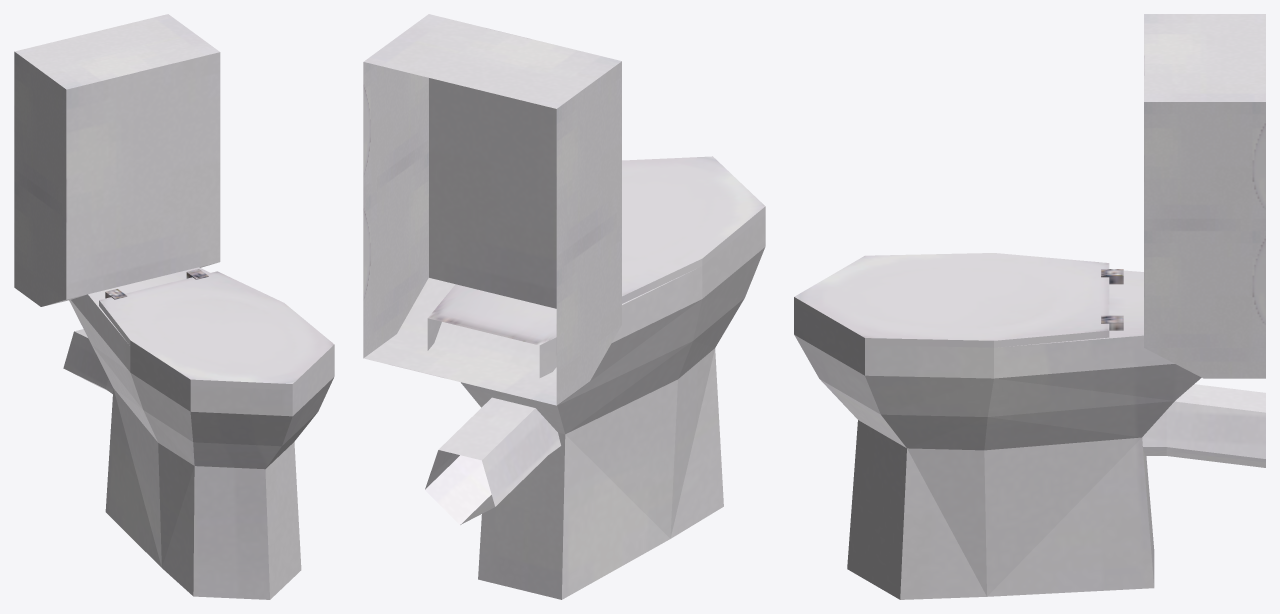
The model's file is Toilet01.obj.
3 views of the same model, side by side, from view 1: azimuth 30°, elevation 25°; view 2: azimuth 150°, elevation 25°; view 3: azimuth 270°, elevation 25° (orthographic). The views are drawn at different scales.
Parts seen in each view (by area): view 1: Toilet01, Toilet01.Lid; view 2: Toilet01, Toilet01.Lid; view 3: Toilet01, Toilet01.Lid.
Part boxes in pixels (box(x1,y1,x2,y2)): Toilet01: box(14, 14, 334, 599); Toilet01.Lid: box(99, 271, 334, 389); Toilet01: box(363, 14, 765, 599); Toilet01.Lid: box(622, 156, 765, 303); Toilet01: box(794, 14, 1265, 599); Toilet01.Lid: box(794, 253, 1109, 347).
Size of the model in its own units: 0.5893 by 1.6 by 1.34.
